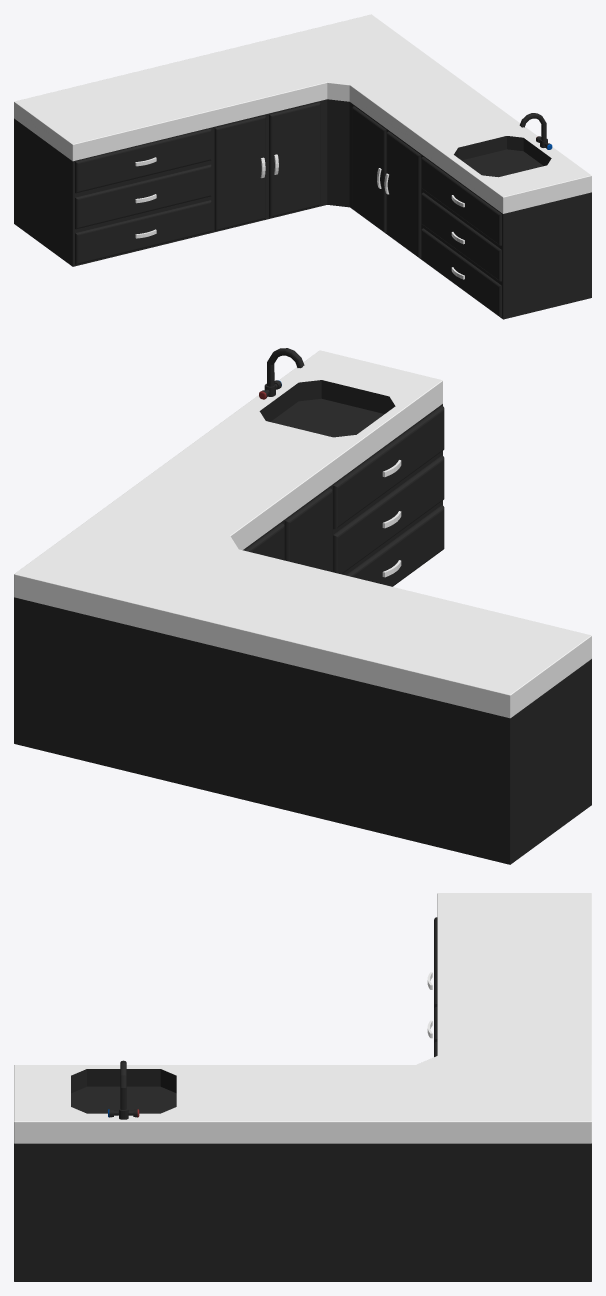
The model's file is Kitchen_2.fbx.
3 renders of one model, top to bottom at view 1: azimuth 30°, elevation 25°; view 2: azimuth 150°, elevation 25°; view 3: azimuth 270°, elevation 25°, orthographic. The views are drawn at different scales.
Parts seen in each view (by area): view 1: Kitchen_2, Kitchen_2.Door_7, Kitchen_2.Door_6, Kitchen_2.Door_8, Kitchen_2.Door_9, Kitchen_2.Door_10, Kitchen_2.Door_4, Kitchen_2.Door_5, Kitchen_2.Door_3, Kitchen_2.Door_2, Kitchen_2.Door_1, Kitchen_2_Sink; view 2: Kitchen_2, Kitchen_2.Door_1, Kitchen_2.Door_2, Kitchen_2.Door_3, Kitchen_2.Door_4, Kitchen_2.Door_5, Kitchen_2_Sink; view 3: Kitchen_2, Kitchen_2_Sink.
Boxes of the visible parts, x1=… form: Kitchen_2: x1=14, y1=14, x2=591, y2=319; Kitchen_2.Door_7: x1=214, y1=115, x2=265, y2=230; Kitchen_2.Door_6: x1=269, y1=102, x2=320, y2=217; Kitchen_2.Door_8: x1=75, y1=128, x2=211, y2=193; Kitchen_2.Door_9: x1=75, y1=164, x2=211, y2=229; Kitchen_2.Door_10: x1=75, y1=200, x2=211, y2=264; Kitchen_2.Door_4: x1=384, y1=131, x2=421, y2=257; Kitchen_2.Door_5: x1=352, y1=106, x2=386, y2=232; Kitchen_2.Door_3: x1=421, y1=228, x2=501, y2=317; Kitchen_2.Door_2: x1=421, y1=192, x2=501, y2=281; Kitchen_2.Door_1: x1=421, y1=157, x2=501, y2=245; Kitchen_2_Sink: x1=519, y1=113, x2=552, y2=149; Kitchen_2: x1=14, y1=350, x2=591, y2=864; Kitchen_2.Door_1: x1=333, y1=406, x2=444, y2=529; Kitchen_2.Door_2: x1=333, y1=455, x2=444, y2=574; Kitchen_2.Door_3: x1=346, y1=505, x2=444, y2=586; Kitchen_2.Door_4: x1=284, y1=488, x2=332, y2=571; Kitchen_2.Door_5: x1=244, y1=523, x2=284, y2=560; Kitchen_2_Sink: x1=259, y1=348, x2=304, y2=399; Kitchen_2: x1=14, y1=893, x2=591, y2=1281; Kitchen_2_Sink: x1=108, y1=1060, x2=139, y2=1119.
Bounding box in the file's own units: 2.65 × 1.12 × 2.83.
